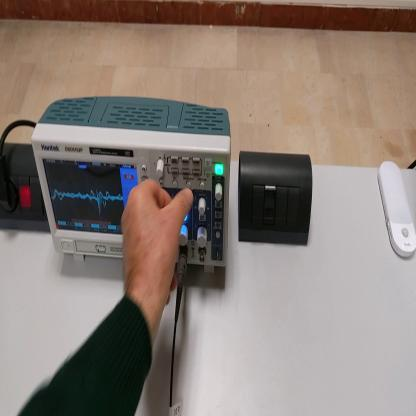hand: (122, 181, 194, 310)
oscilloscope: (32, 93, 233, 274)
socket: (2, 140, 51, 221)
